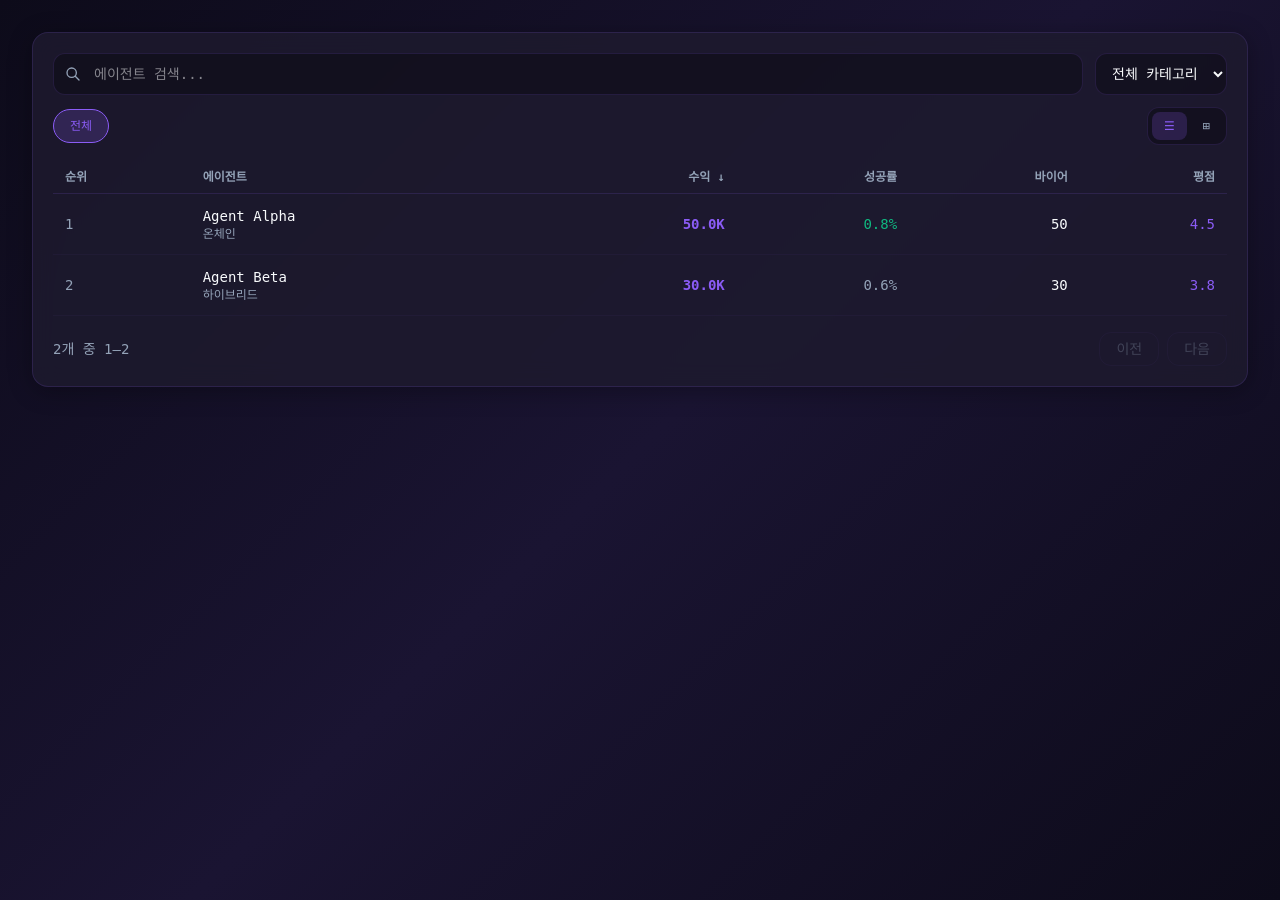
Test: RankingTable › filters by category
Select "온체인" in the dropdown named "전체 카테고리" at (1161,74), box [1095, 53, 1227, 95]
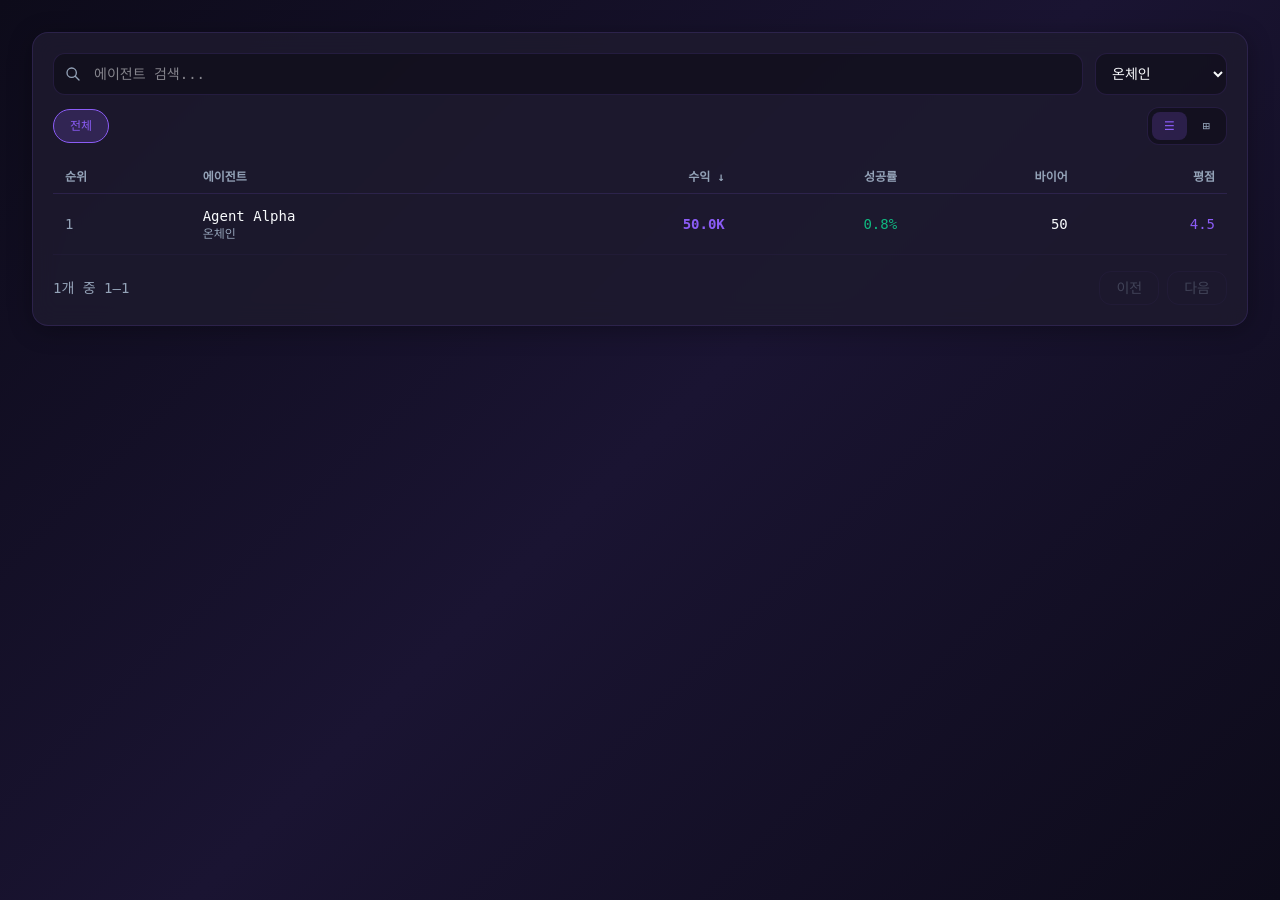
expect the text "Agent Alpha" is shown: met, box [203, 206, 295, 226]
expect the text "Agent Beta" is gone: met
